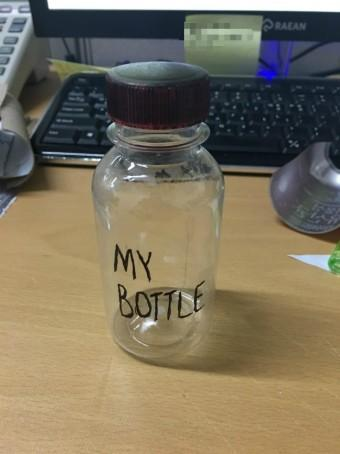bottle: (93, 62, 225, 362)
